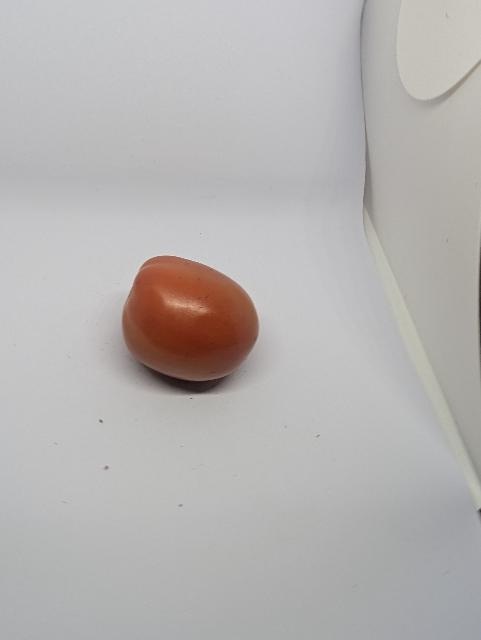red: (119, 253, 264, 385)
